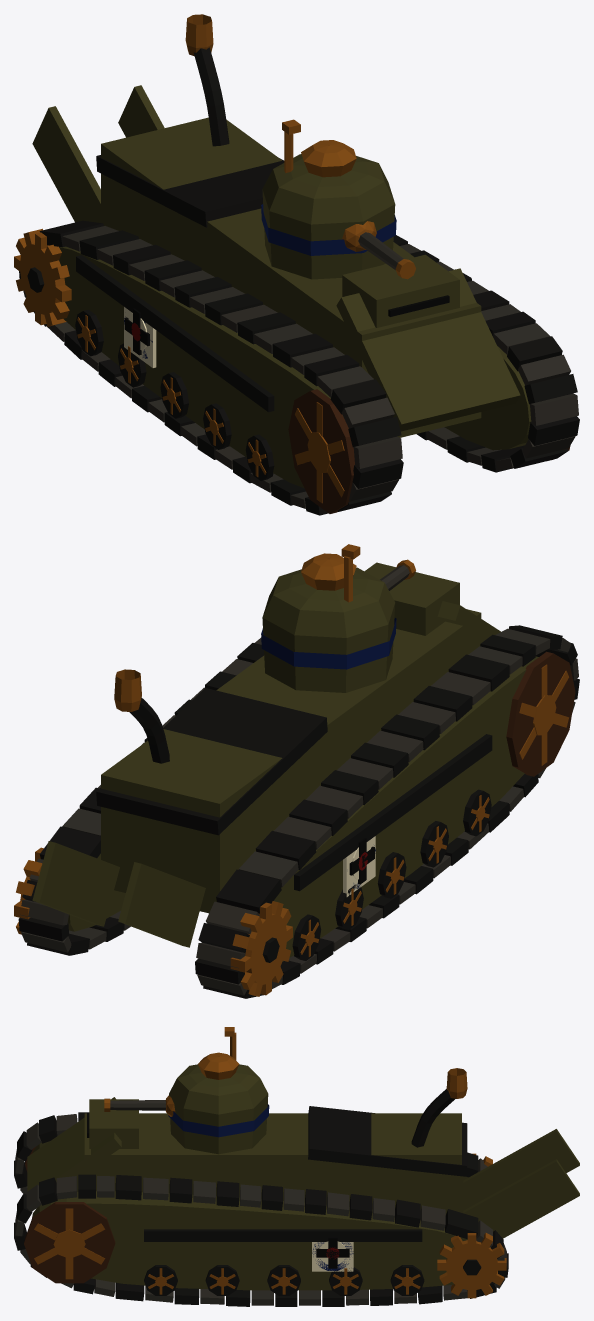
Rendered from Lince.obj.
The picture shows the model from 3 angles, top to bottom: view 1: azimuth 30°, elevation 25°; view 2: azimuth 150°, elevation 25°; view 3: azimuth 270°, elevation 25°; orthographic projection. The views are drawn at different scales.
Parts seen in each view (by area): view 1: Cuerpo, Rueda, Torreta, Elevacion, Insignia_Cruz; view 2: Cuerpo, Rueda, Torreta, Insignia_Cruz, Elevacion; view 3: Cuerpo, Rueda, Torreta, Insignia_Cruz, Elevacion, Insignia_Escarapela_N.
Boxes of the visible parts, left/top/right/bottom form: Cuerpo: left=19, top=14, right=579, bottom=515; Rueda: left=14, top=228, right=570, bottom=513; Torreta: left=261, top=119, right=396, bottom=279; Elevacion: left=342, top=221, right=415, bottom=279; Insignia_Cruz: left=124, top=307, right=156, bottom=367; Cuerpo: left=18, top=562, right=579, bottom=998; Rueda: left=14, top=651, right=575, bottom=996; Torreta: left=261, top=544, right=396, bottom=692; Insignia_Cruz: left=343, top=836, right=375, bottom=896; Elevacion: left=380, top=559, right=415, bottom=590; Cuerpo: left=14, top=1068, right=579, bottom=1306; Rueda: left=24, top=1146, right=506, bottom=1298; Torreta: left=168, top=1027, right=269, bottom=1154; Insignia_Cruz: left=312, top=1237, right=353, bottom=1271; Elevacion: left=104, top=1095, right=175, bottom=1116; Insignia_Escarapela_N: left=312, top=1241, right=353, bottom=1270.
Size of the model in its own units: 2.01 by 2.54 by 5.7.
